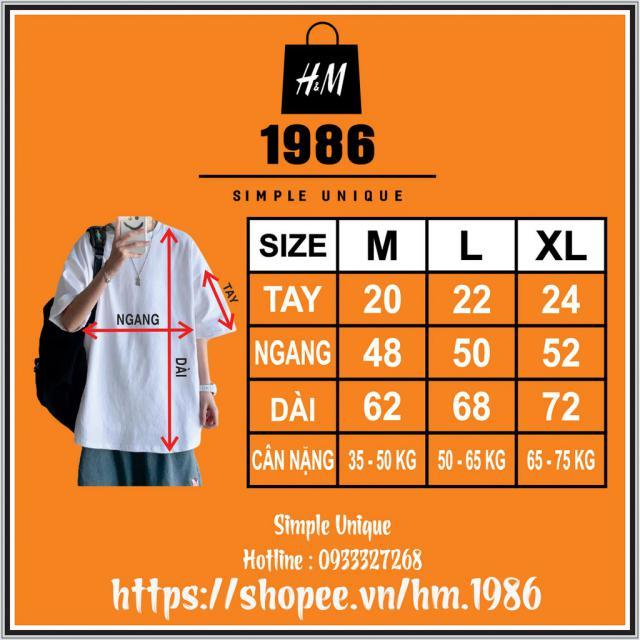Shirt: (46, 210, 240, 456)
